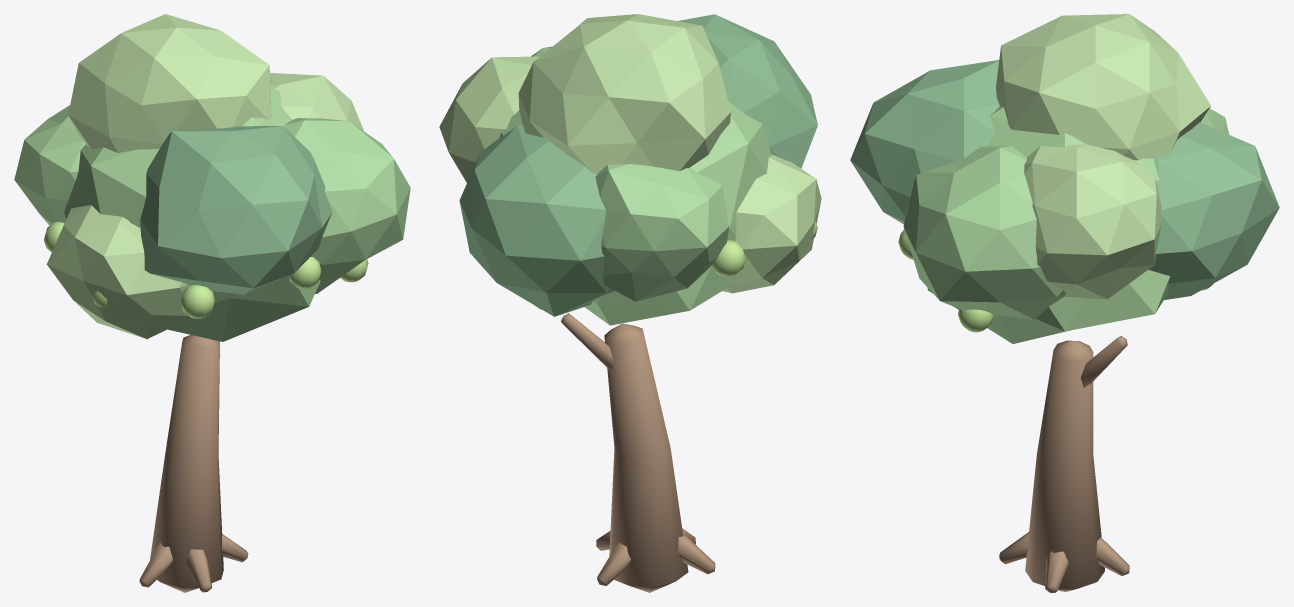
File: tree_fruit_maca.glb
The picture shows the model from 3 angles, left to right: view 1: azimuth 30°, elevation 25°; view 2: azimuth 150°, elevation 25°; view 3: azimuth 270°, elevation 25°; orthographic projection. The views are drawn at different scales.
Parts seen in each view (by area): view 1: tree_fruit_maca; view 2: tree_fruit_maca; view 3: tree_fruit_maca.
Part boxes in pixels (<box>): tree_fruit_maca: <box>14,14,410,592</box>; tree_fruit_maca: <box>439,14,821,592</box>; tree_fruit_maca: <box>850,14,1279,592</box>.
Bounding box in the file's own units: 2.28 × 3.78 × 2.58.
